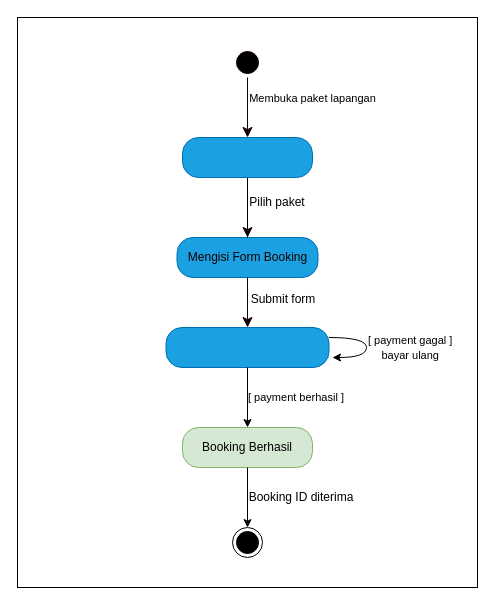
Image size: 495x605. Some labels were removed from this diagram. The shapes that lost their labels are listed below. From the top down, each one's centre as x and y in pixels, then its label:
point (247, 157): Memilih Paket
point (247, 347): Menunggu Pembayaran
